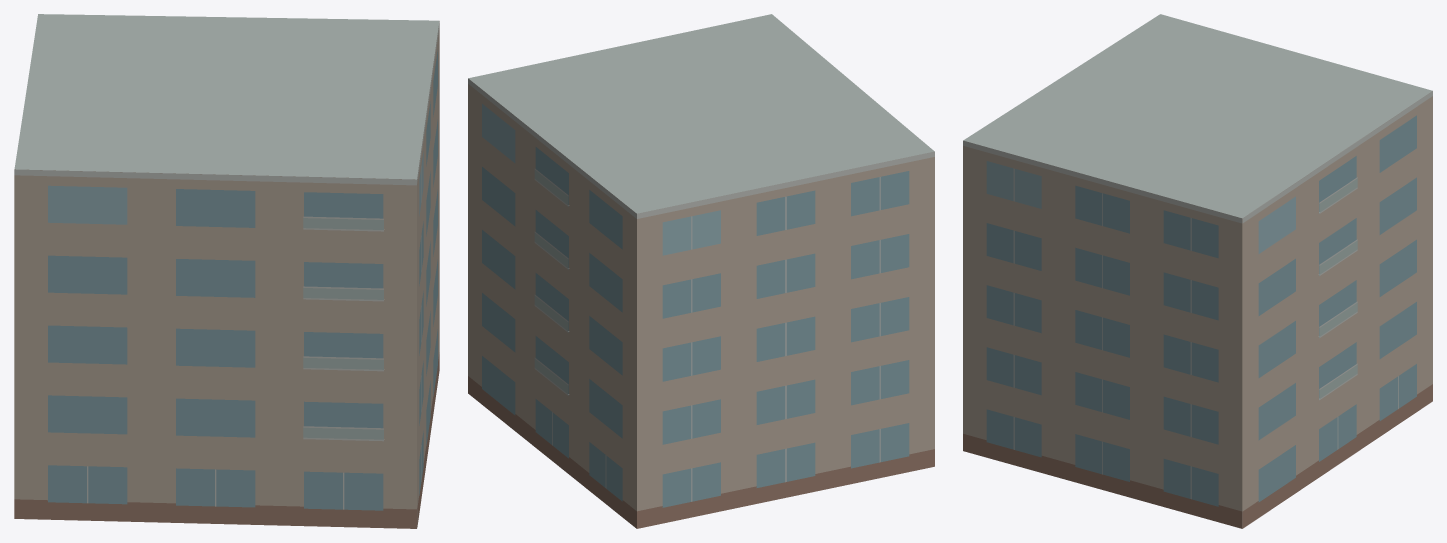
File: survey-upis-32780902.glb
3 views of the same model, side by side, from view 1: azimuth 30°, elevation 25°; view 2: azimuth 150°, elevation 25°; view 3: azimuth 270°, elevation 25° (orthographic). The views are drawn at different scales.
Visible parts, largest first — view 1: survey-upis-32780902.tmp; view 2: survey-upis-32780902.tmp; view 3: survey-upis-32780902.tmp.
Boxes of the visible parts, bbox=[...] form: survey-upis-32780902.tmp: bbox=[14, 14, 439, 528]; survey-upis-32780902.tmp: bbox=[468, 14, 934, 528]; survey-upis-32780902.tmp: bbox=[963, 14, 1432, 528].
Size of the model in its own units: 20.34 by 14.4 by 19.75.
